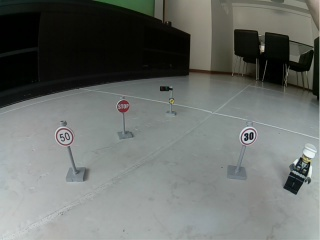Person: (284, 143, 315, 194)
Red Traffic Light: (158, 86, 176, 117)
Speed Limit 30: (239, 125, 257, 147)
Speed Limit 50: (54, 127, 75, 148)
Stop Sign: (115, 99, 131, 114)
